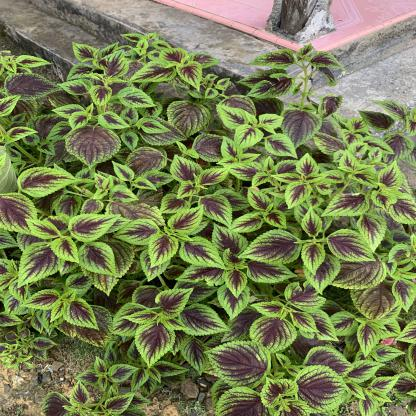Bunga Coleus: (10, 47, 409, 405)
